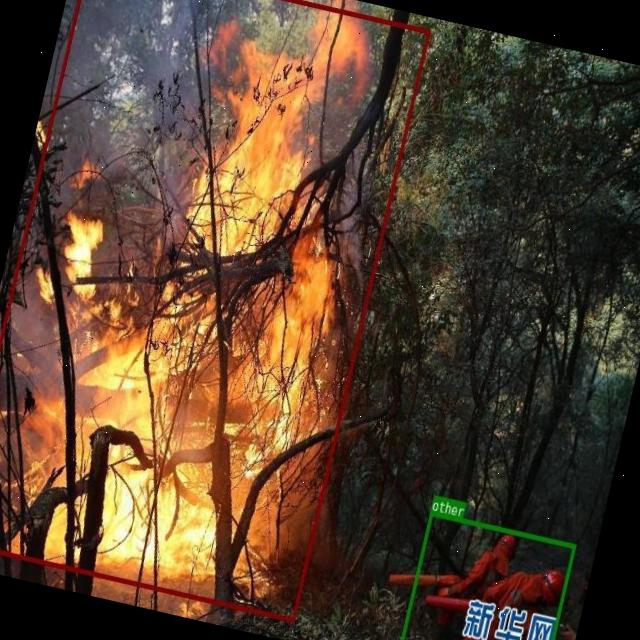fire: (0, 0, 430, 620)
